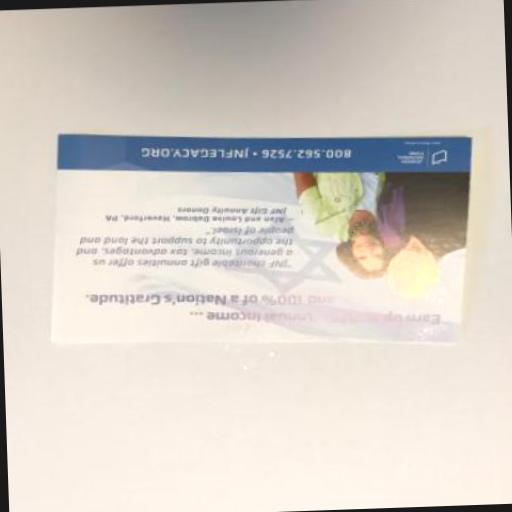paper: (46, 120, 479, 354)
